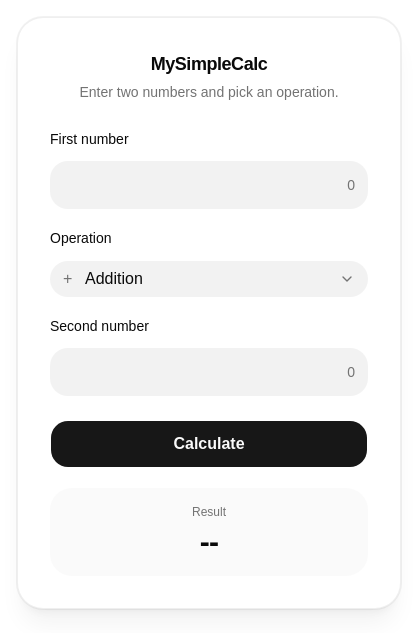
Test: CalculatorPage › entering a calculation › lets the user pick a different operation
Click the dropdown named "Operation".
click(114, 278)  # box x1=50 y1=261 x2=368 y2=297
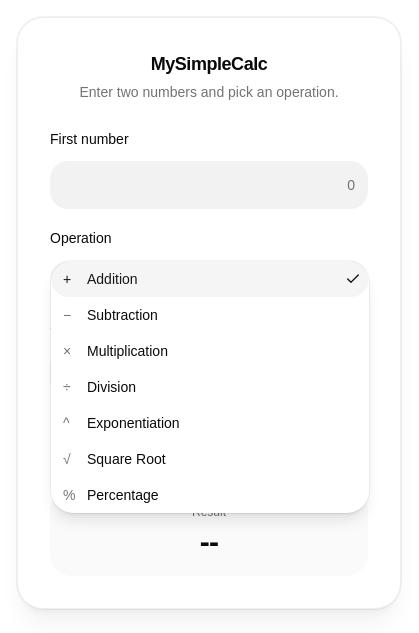
Click the option "÷ Division".
click(100, 387)  # box x1=63 y1=379 x2=136 y2=395
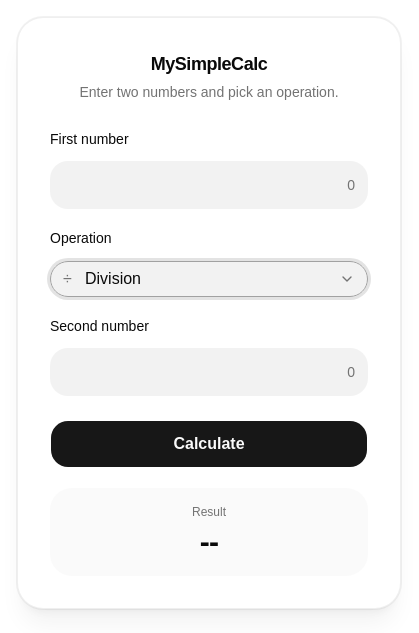
Check: the dropdown named "Operation" shows "Division", box x1=50 y1=261 x2=368 y2=297
